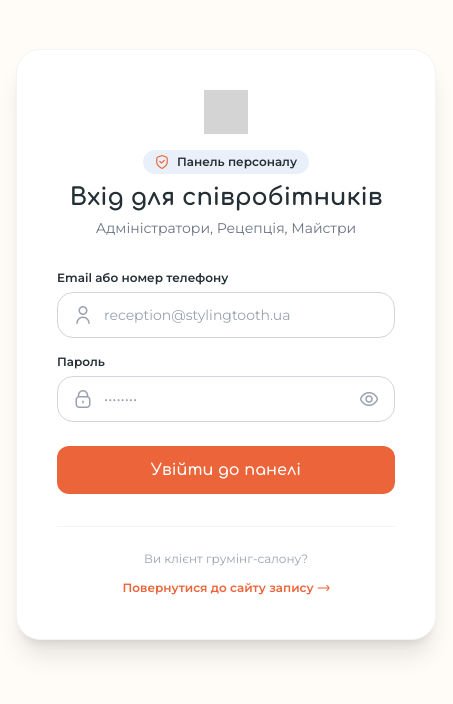
Test: StaffLoginPage › rejects client users with informative message and link to customer app
The width and height of the screenshot is (453, 704).
In the field labelled "Email або номер телефону": (241, 314) [104, 304, 378, 324], type "client@example.com"
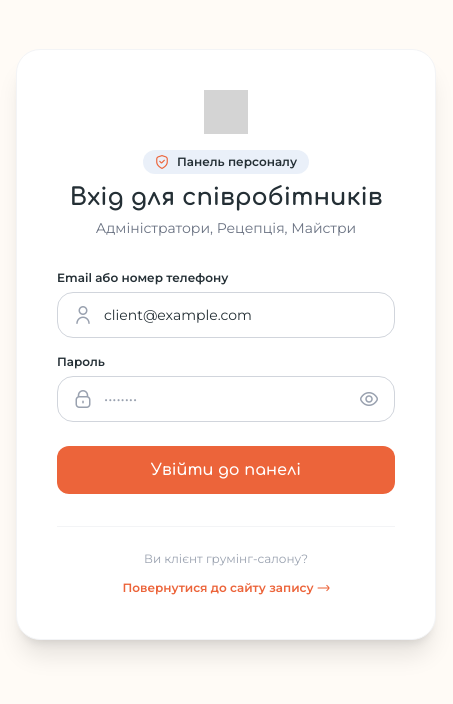
In the password field labelled "Пароль": (226, 398) [104, 388, 348, 408], type "Secret123!"
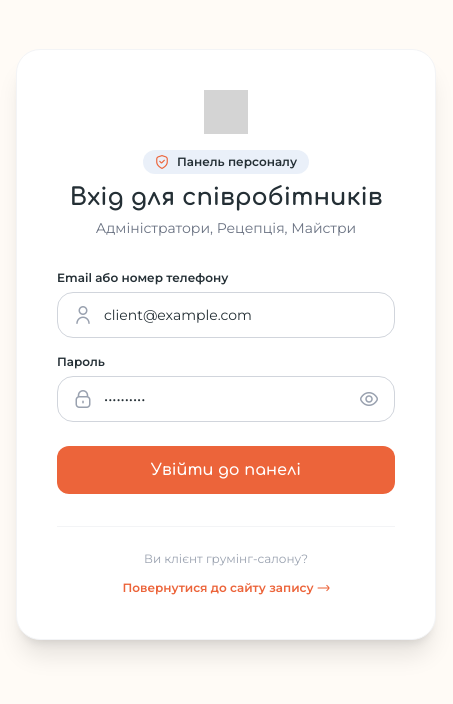
Click the button "Увійти до панелі": (226, 470) [57, 446, 395, 494]
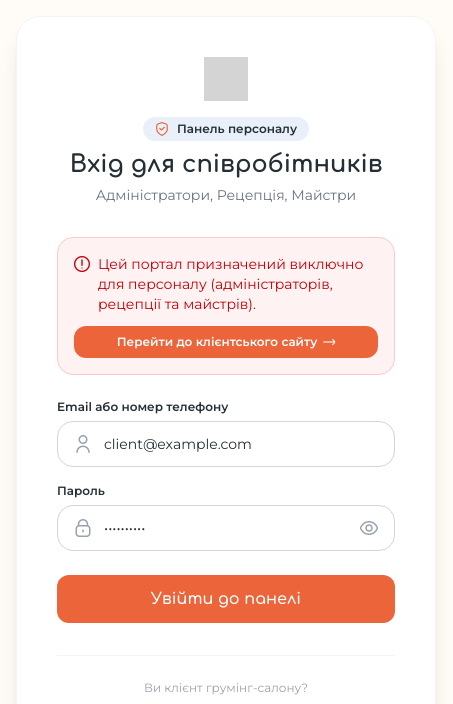
Now the text "Цей портал призначений виключно для персоналу (адміністраторів, рецепції та майстрів)." is shown, box [98, 255, 364, 313]
Now the text "Перейти до клієнтського сайту" is shown, box [117, 334, 317, 350]
